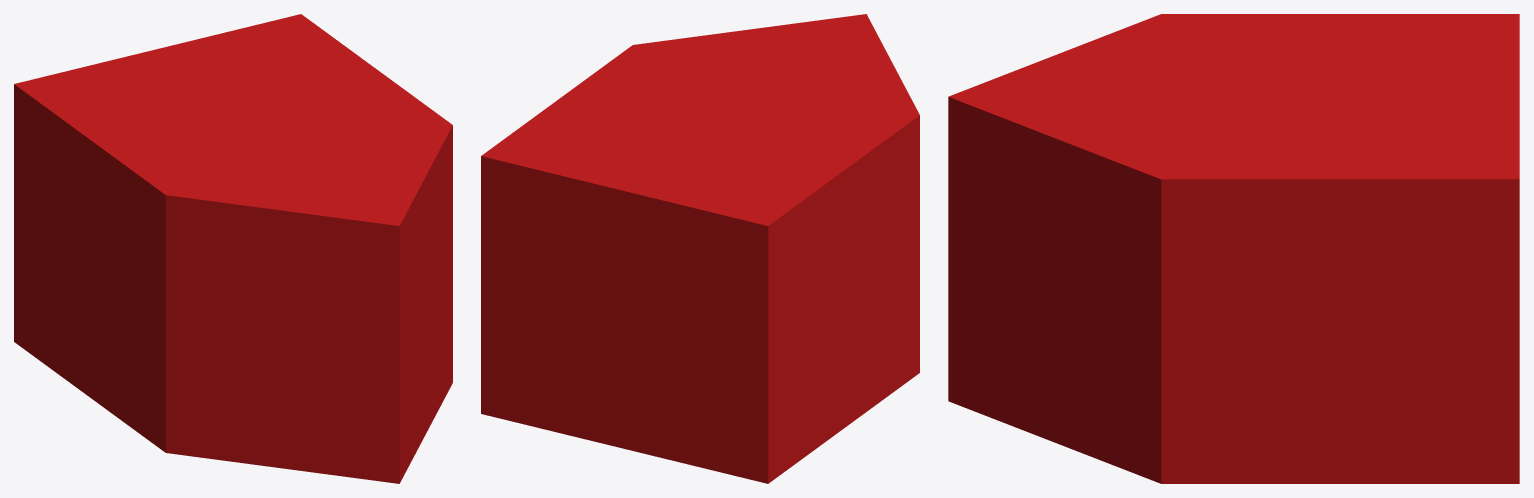
File: maison.obj
3 views of the same model, side by side, from view 1: azimuth 30°, elevation 25°; view 2: azimuth 150°, elevation 25°; view 3: azimuth 270°, elevation 25° (orthographic). The views are drawn at different scales.
Visible parts, largest first — view 1: object_1.007; view 2: object_1.007; view 3: object_1.007.
Part boxes in pixels (x1,y1,x2,y2): object_1.007: (14, 14, 452, 483); object_1.007: (481, 14, 919, 483); object_1.007: (948, 14, 1519, 483).
Size of the model in its own units: 17.11 by 14.68 by 24.97.
